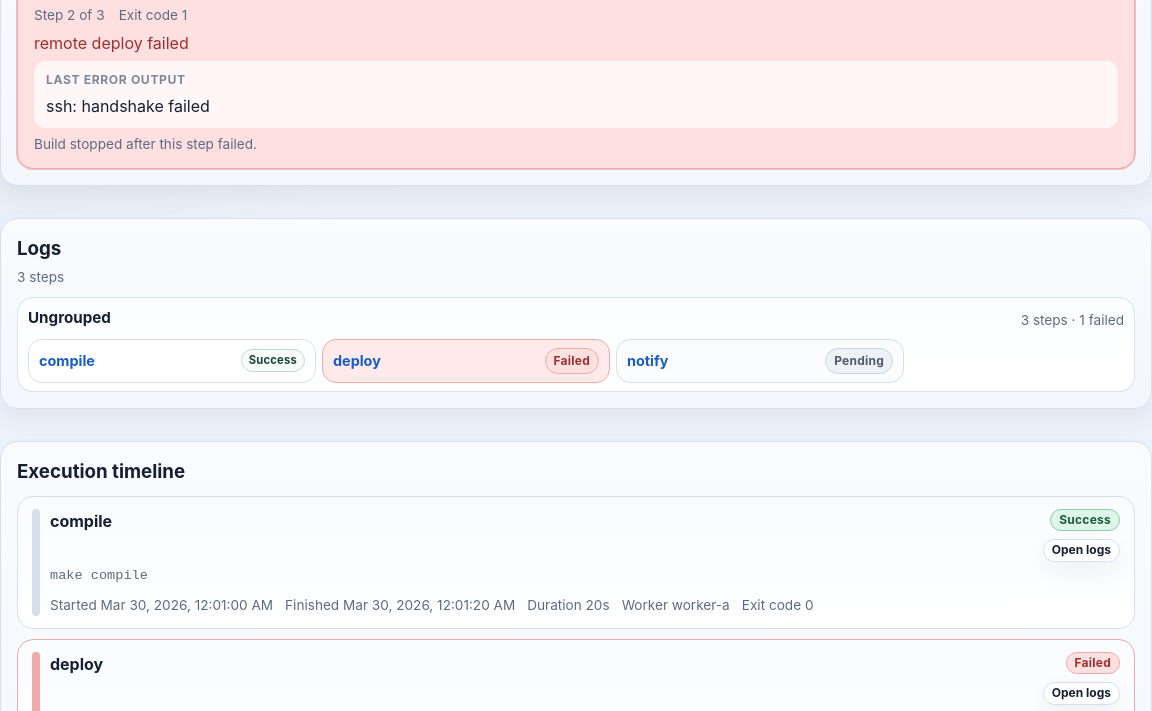
Test case: BuildDetailPage › updates and clears the step query parameter when logs are opened and hidden
(page scrolled)
Expected: the heading "Logs" is shown, x1=17 y1=235 x2=64 y2=263
Click the link with aria-label "Open logs for deploy" at [357, 360], box x1=322 y1=339 x2=610 y2=383
(page scrolled)
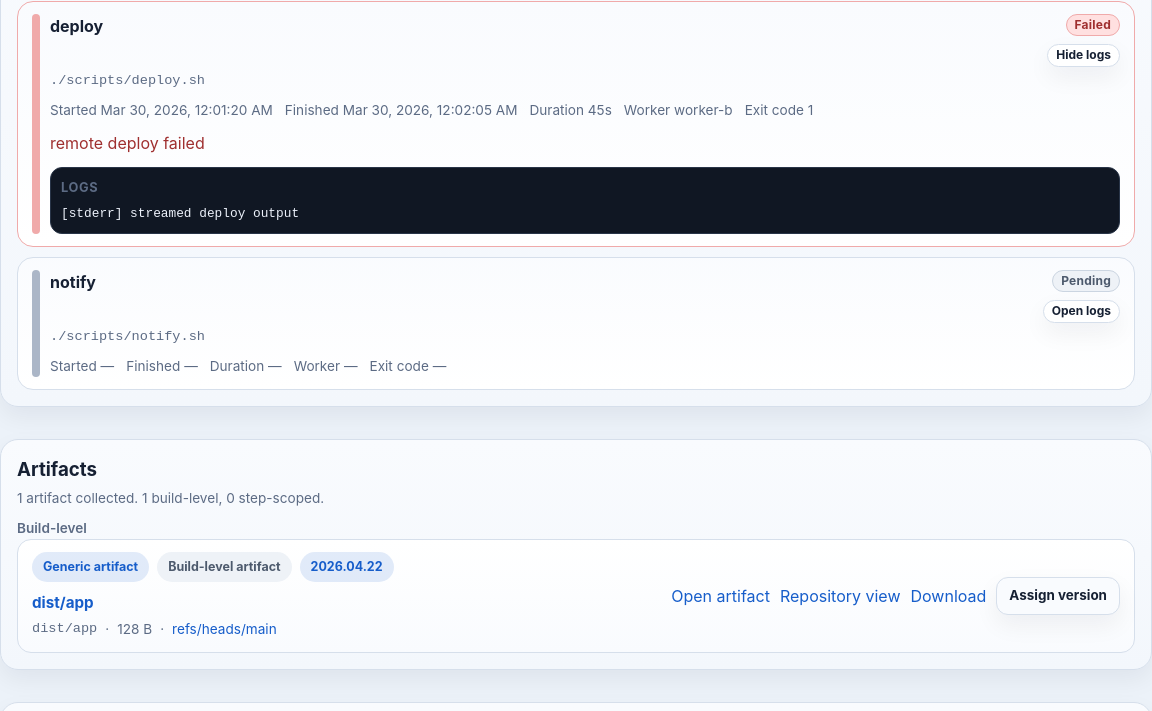
Click the button "Hide logs" at [1084, 55], box x1=1047 y1=44 x2=1120 y2=67
(page scrolled)
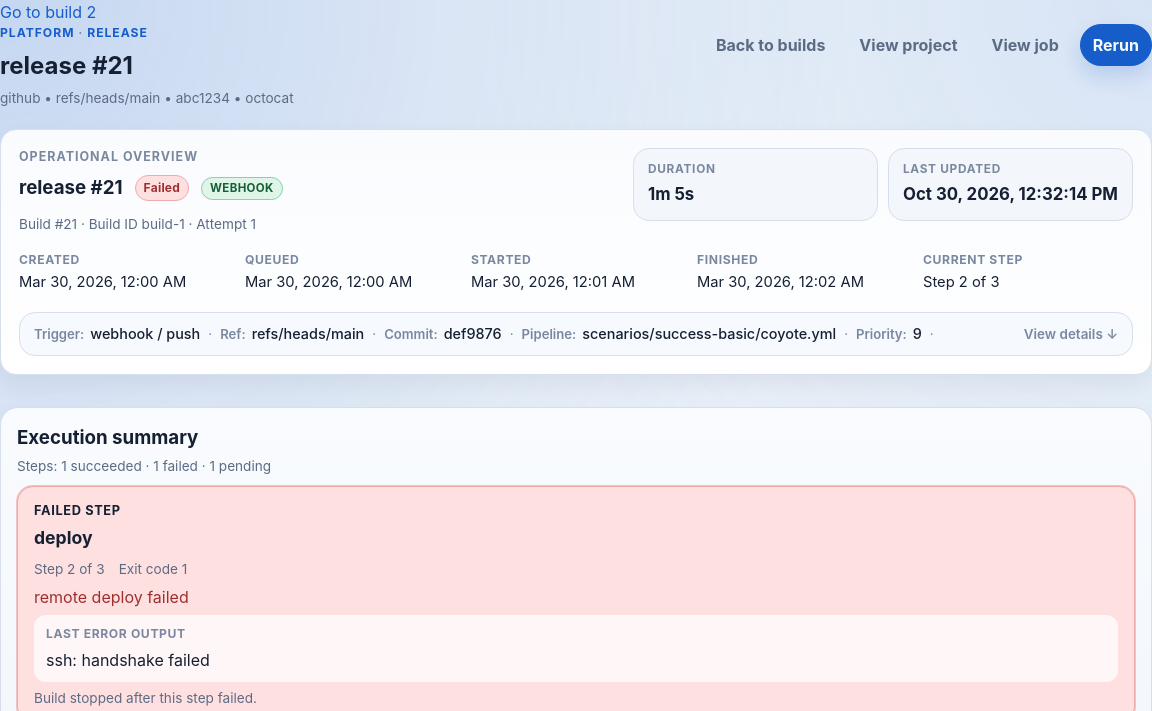
Expected: the button "Hide logs" is gone
